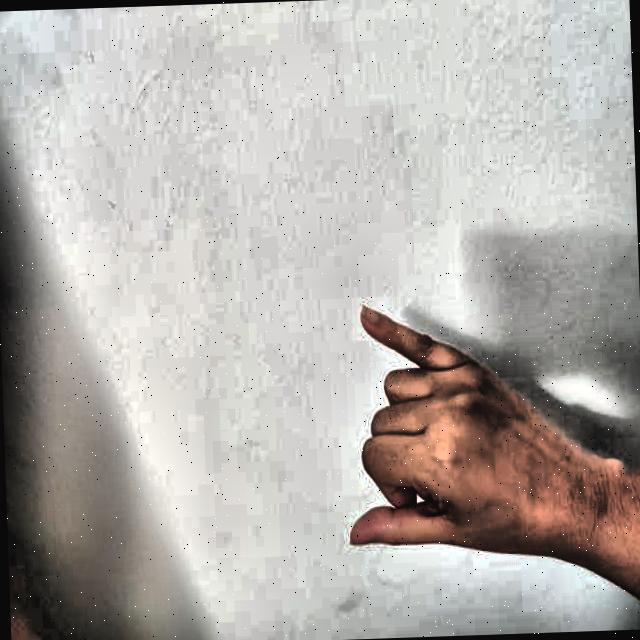Oi: (304, 274, 584, 592)
